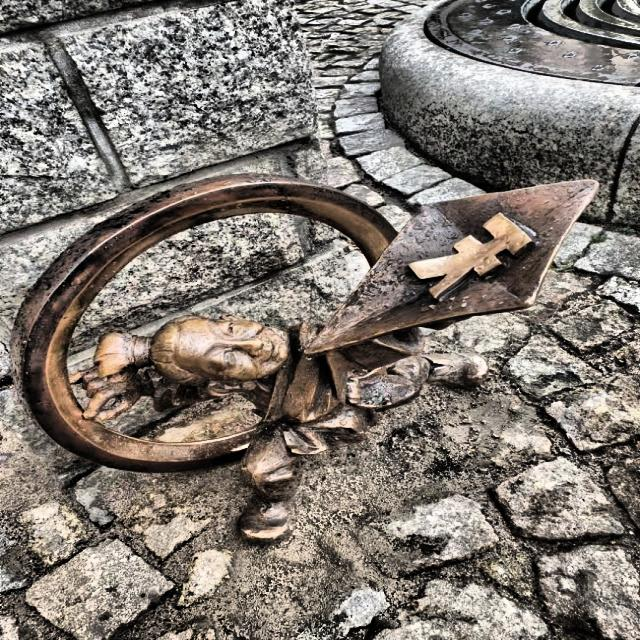TianTian: (12, 174, 597, 542)
